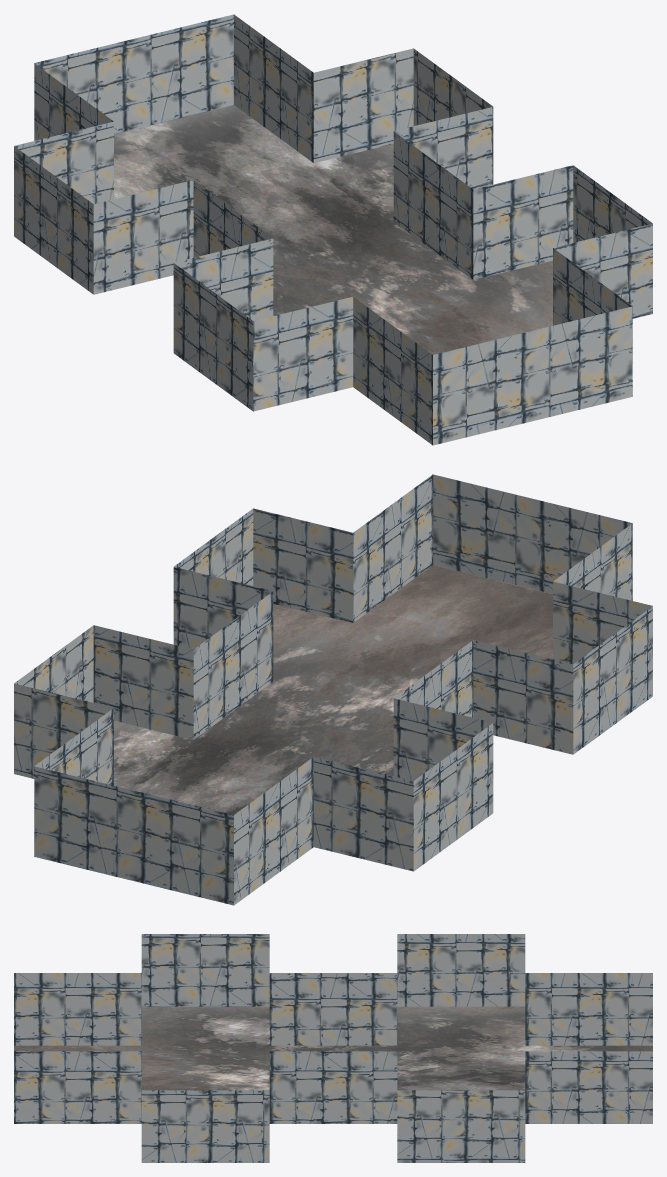
The model's file is LevelJail.fbx.
3 renders of one model, top to bottom at view 1: azimuth 30°, elevation 25°; view 2: azimuth 150°, elevation 25°; view 3: azimuth 270°, elevation 25°, orthographic. The views are drawn at different scales.
Parts seen in each view (by area): view 1: pPlane1; view 2: pPlane1; view 3: pPlane1.
Part boxes in pixels (box(x1,y1,x2,y2)): pPlane1: box(14, 14, 652, 445); pPlane1: box(14, 474, 652, 905); pPlane1: box(14, 934, 652, 1162).
Bounding box in the file's own units: 13.86 × 3 × 23.95.
2 materials, 2 textured.
